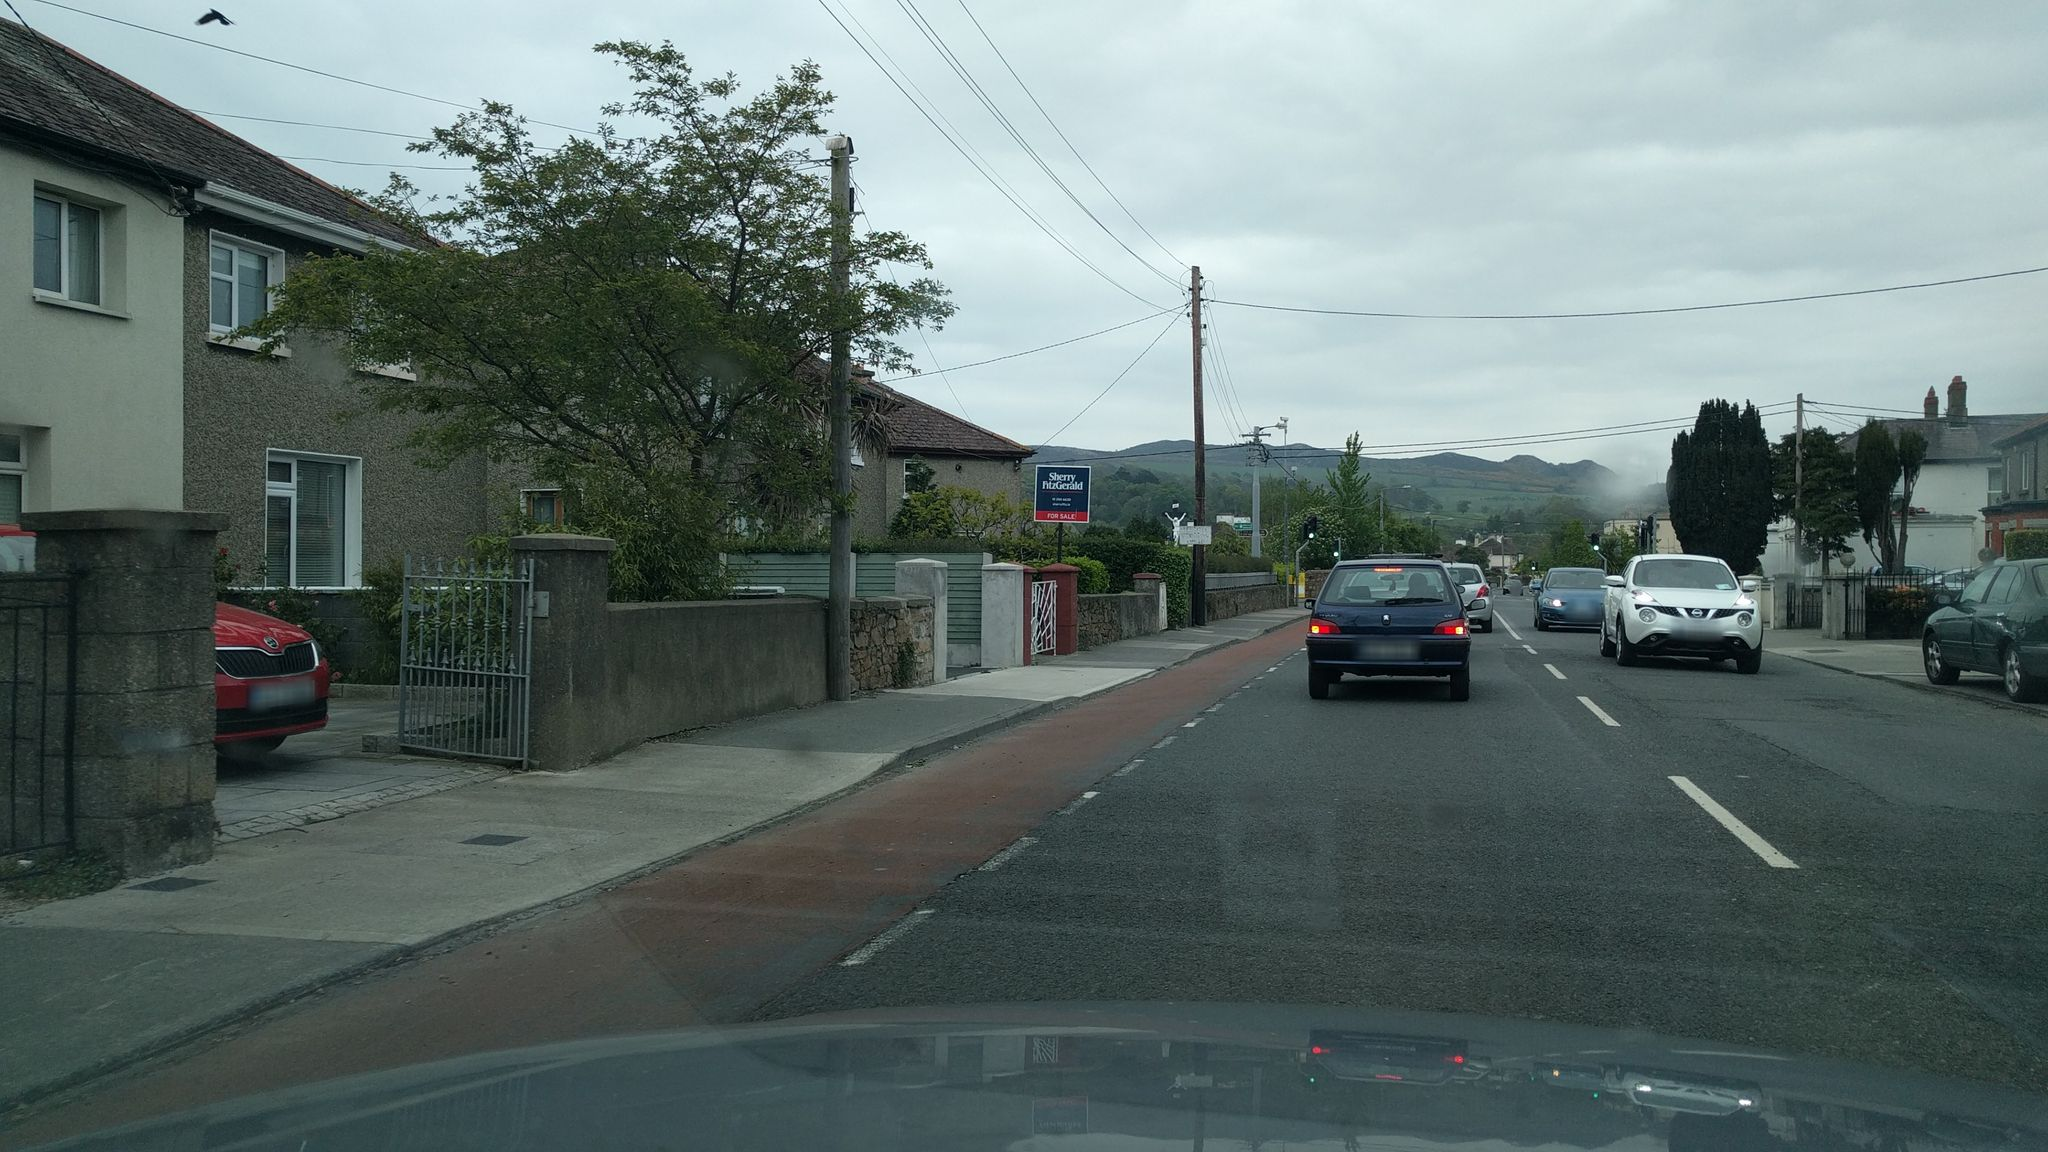property sign: (1025, 449, 1103, 532)
